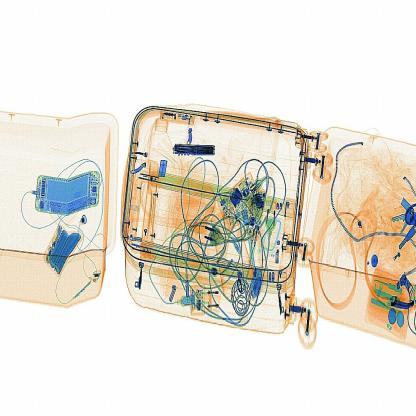scissors: (168, 140, 220, 160)
